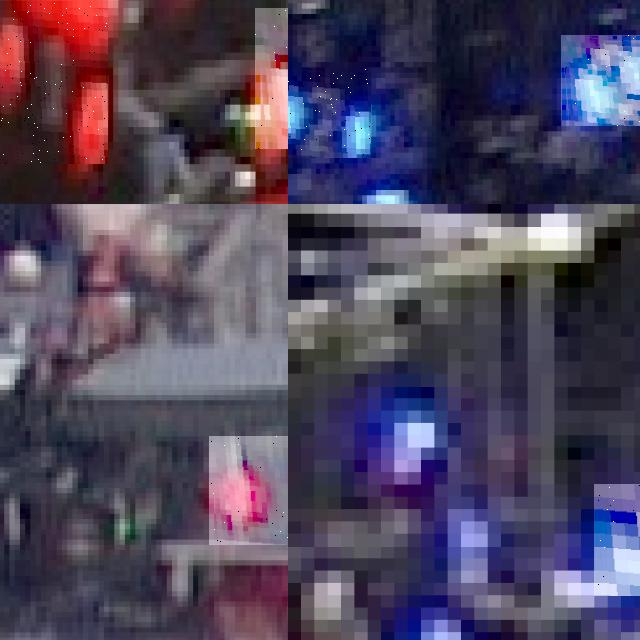B2: (288, 67, 371, 157), (561, 35, 640, 125), (594, 484, 640, 595)
R1: (0, 0, 108, 164), (209, 436, 288, 544), (255, 7, 288, 149)
